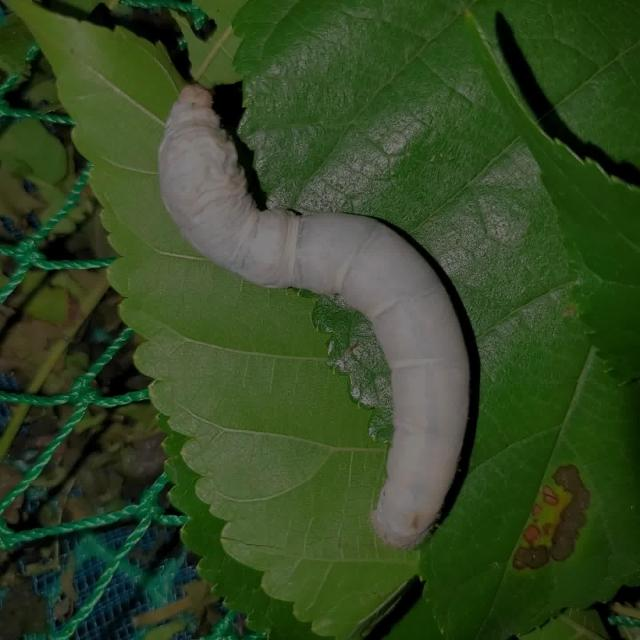Healthy: (125, 59, 484, 565)
